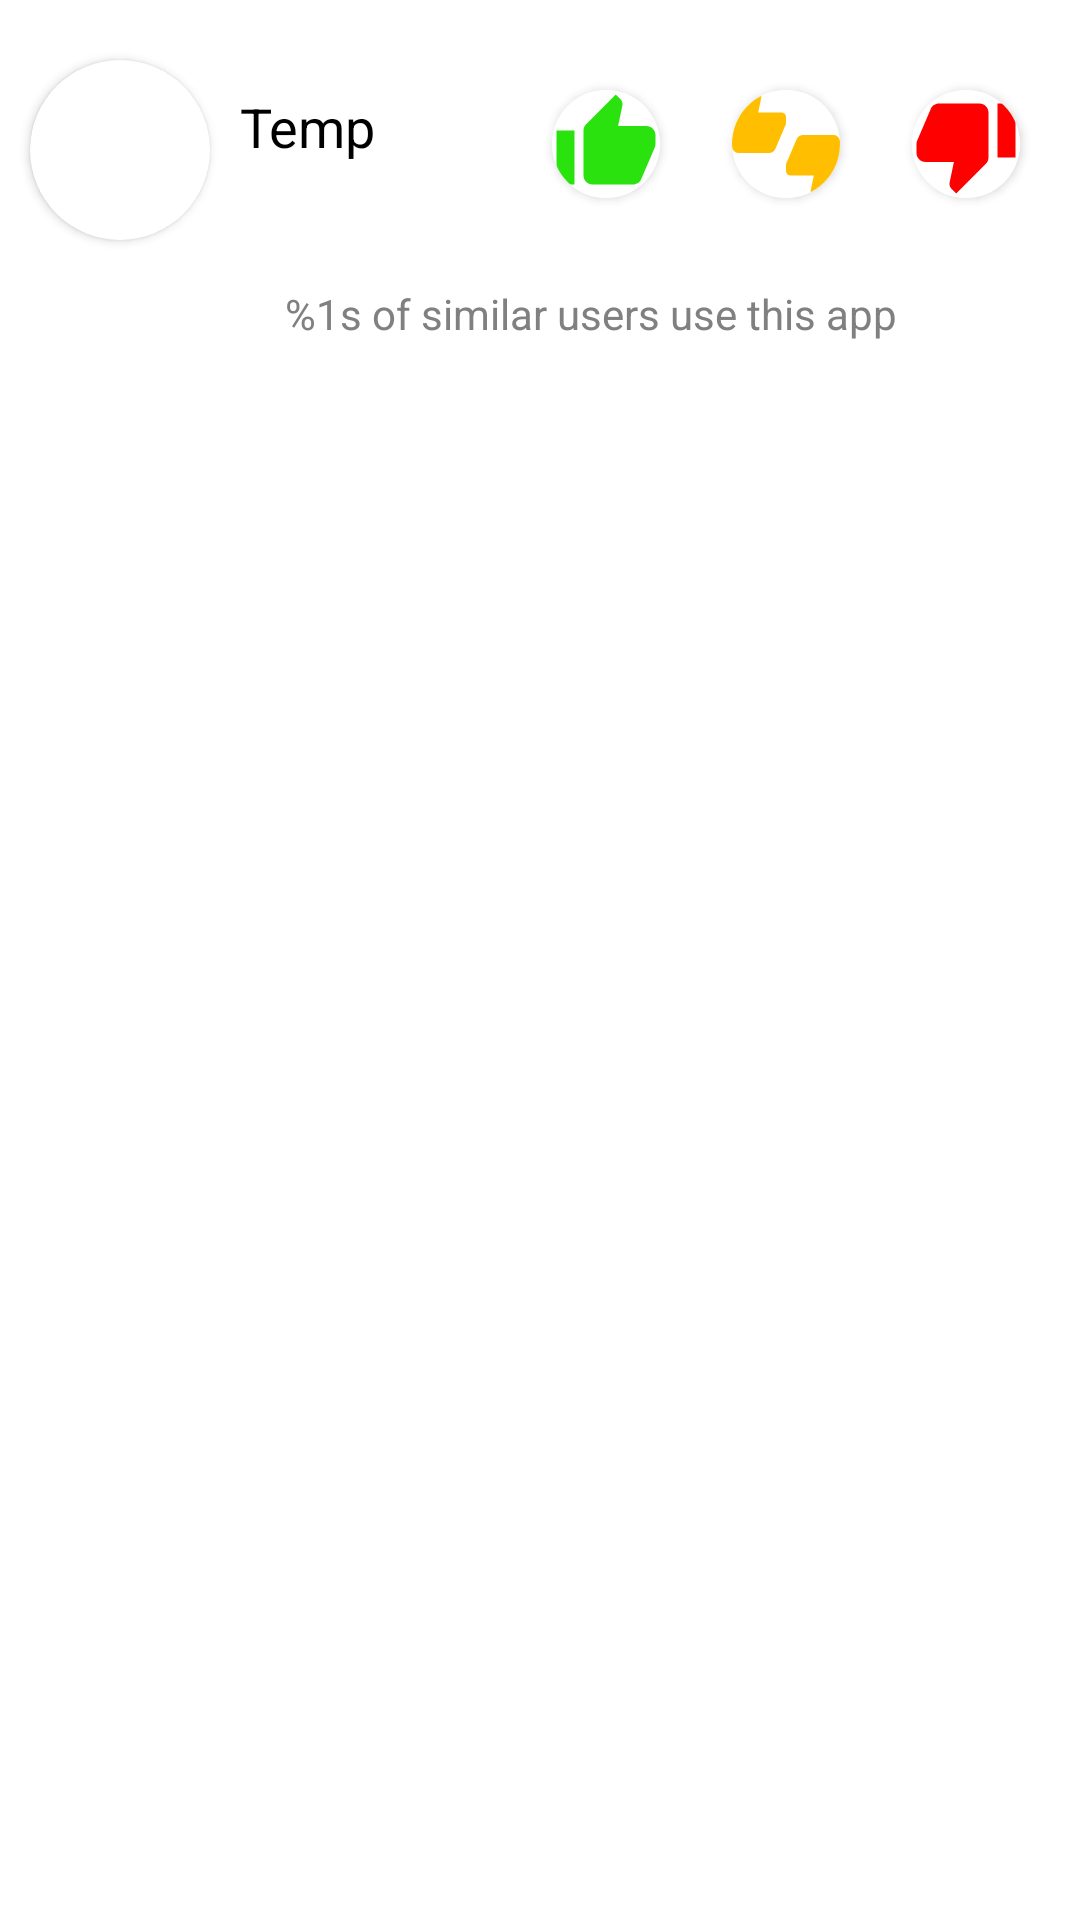

Icon click points for this 1080*1920 phone screenshot, format point (x, y):
Dislike Recommendation: point (968, 148)
Like Recommendation: point (606, 139)
thumbs up down: point (786, 144)
